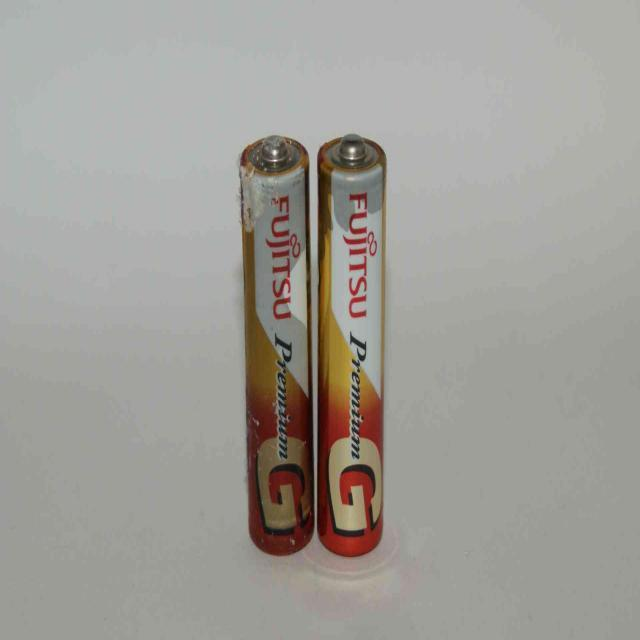AAA: (234, 124, 318, 560), (316, 129, 392, 562)
